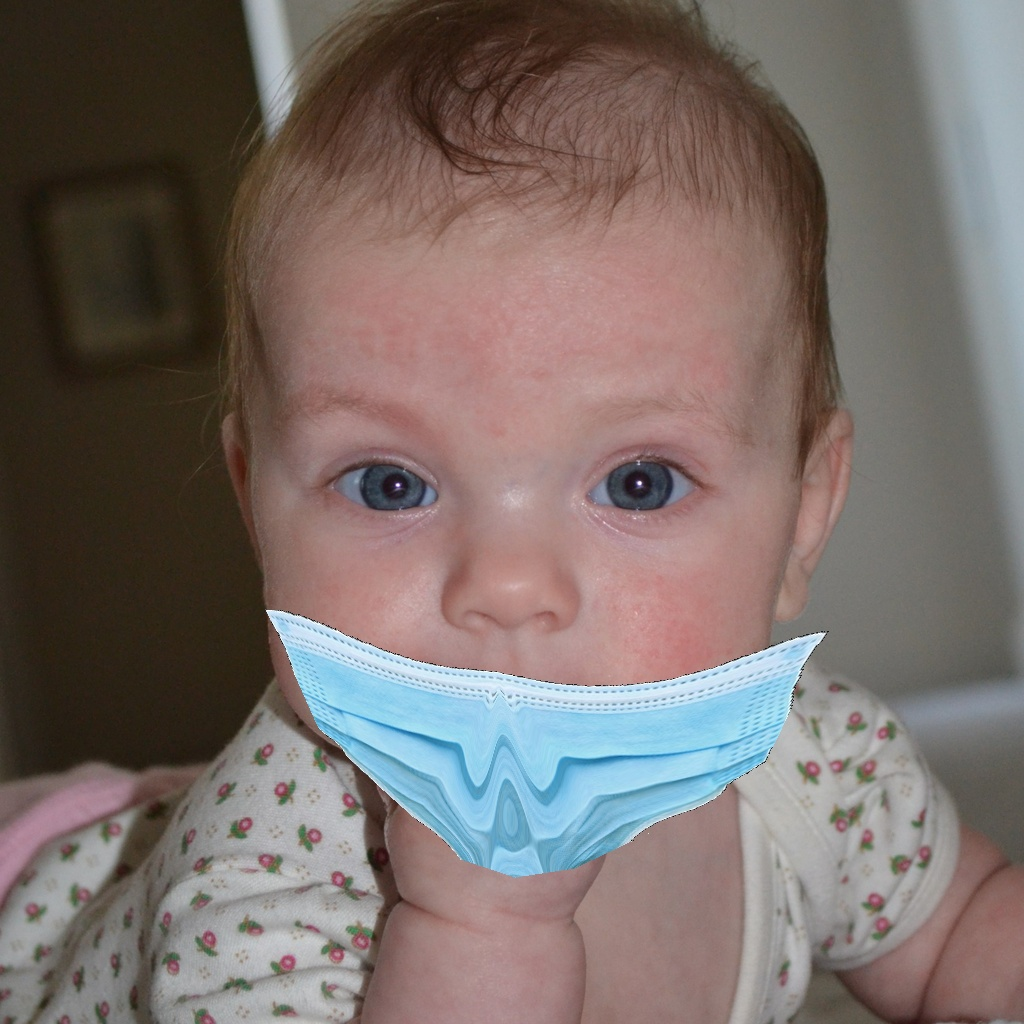mask_weared_incorrect: (223, 314, 846, 884)
